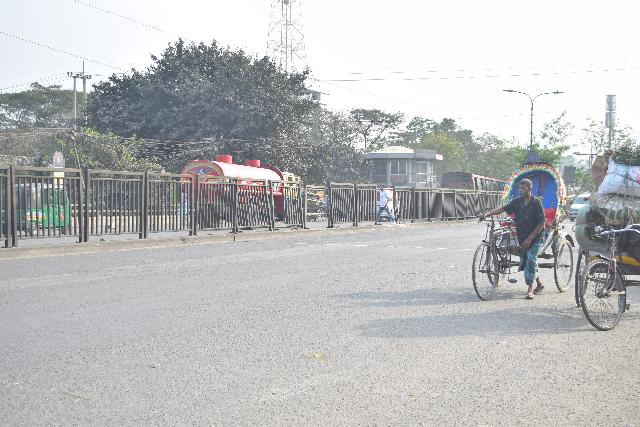truck: (185, 156, 301, 234), (570, 190, 590, 225)
